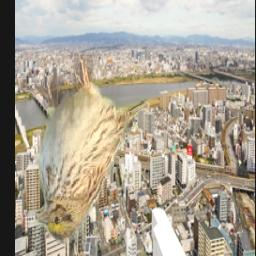Sparrow: (32, 56, 148, 247)
